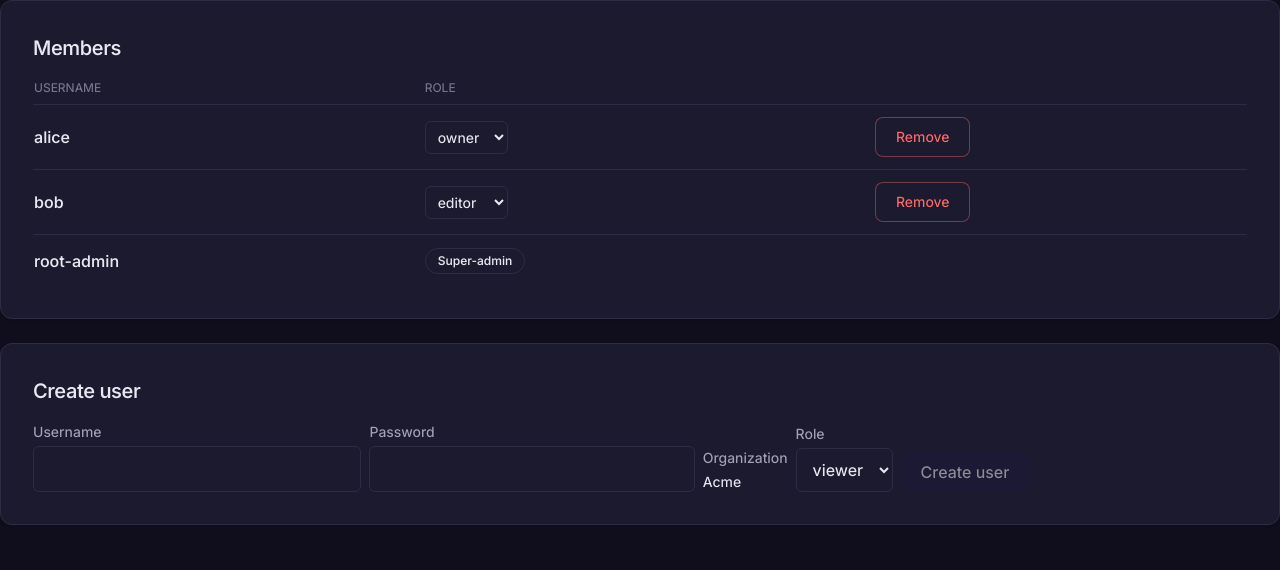
OrgMembers › surfaces a 409 error from a role change
Expected: the text "alice" is shown, [33,104,424,170]
Select "admin" in the dropdown in the row of "alice": (466,137) [425,120,508,154]
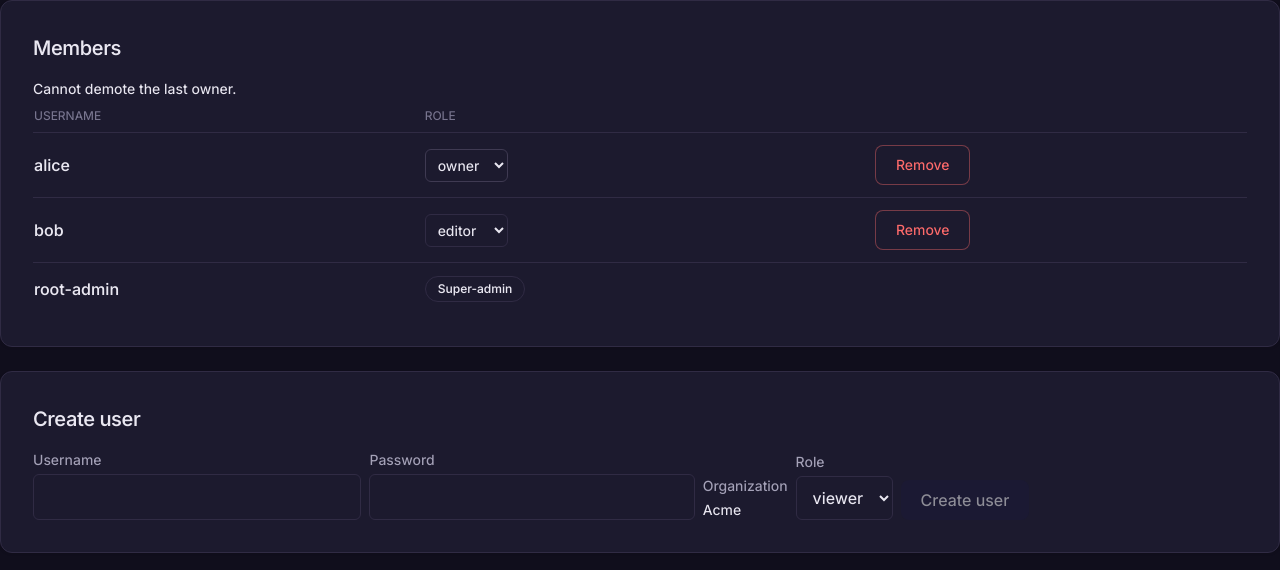
Result: the text "Cannot demote the last owner." is shown at [33,80,236,97]
